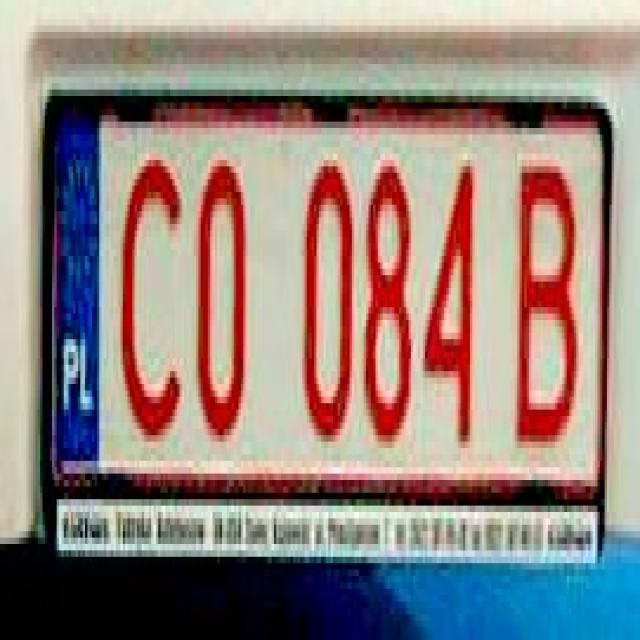pl_license_plate: (52, 109, 600, 499)
